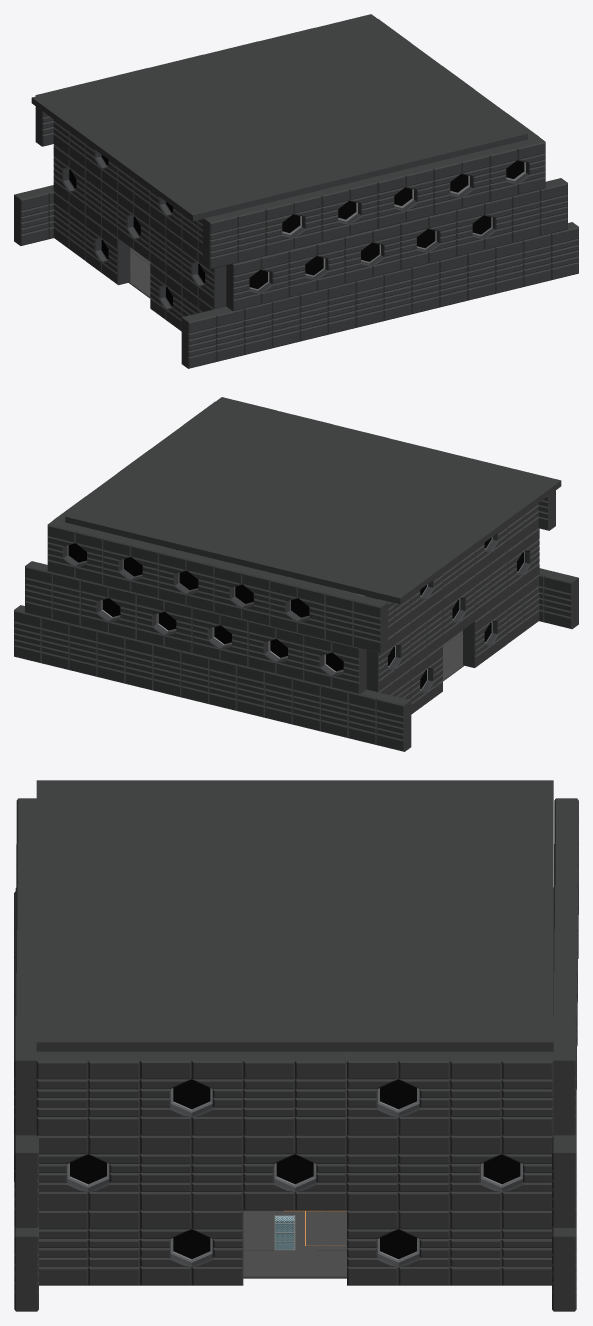
Rendered from room2.fbx.
3 renders of one model, top to bottom at view 1: azimuth 30°, elevation 25°; view 2: azimuth 150°, elevation 25°; view 3: azimuth 270°, elevation 25°, orthographic. The views are drawn at different scales.
Visible parts, largest first — view 1: r2_celing, r2_wall4, r2_wall1, r2_wall3, r2_wall2, r2_floor; view 2: r2_celing, r2_wall3, r2_wall1, r2_wall4, r2_wall2, r2_floor; view 3: r2_celing, r2_wall2, r2_wall3, r2_wall4, r2_floor.
Part boxes in pixels (bbox=[...]): r2_celing: bbox=[31, 16, 527, 221]; r2_wall4: bbox=[181, 137, 578, 368]; r2_wall1: bbox=[53, 120, 226, 331]; r2_wall3: bbox=[14, 14, 377, 245]; r2_wall2: bbox=[373, 19, 538, 139]; r2_floor: bbox=[129, 247, 150, 298]; r2_celing: bbox=[65, 398, 561, 604]; r2_wall3: bbox=[14, 519, 411, 751]; r2_wall1: bbox=[366, 503, 539, 714]; r2_wall4: bbox=[215, 397, 578, 629]; r2_wall2: bbox=[54, 401, 219, 549]; r2_floor: bbox=[222, 561, 464, 681]; r2_celing: bbox=[36, 780, 553, 1051]; r2_wall2: bbox=[36, 1051, 553, 1285]; r2_wall3: bbox=[552, 798, 578, 1311]; r2_wall4: bbox=[14, 798, 38, 1311]; r2_floor: bbox=[243, 1052, 346, 1278].
Bounding box in the file's own units: 7000 × 2569 × 5465.
